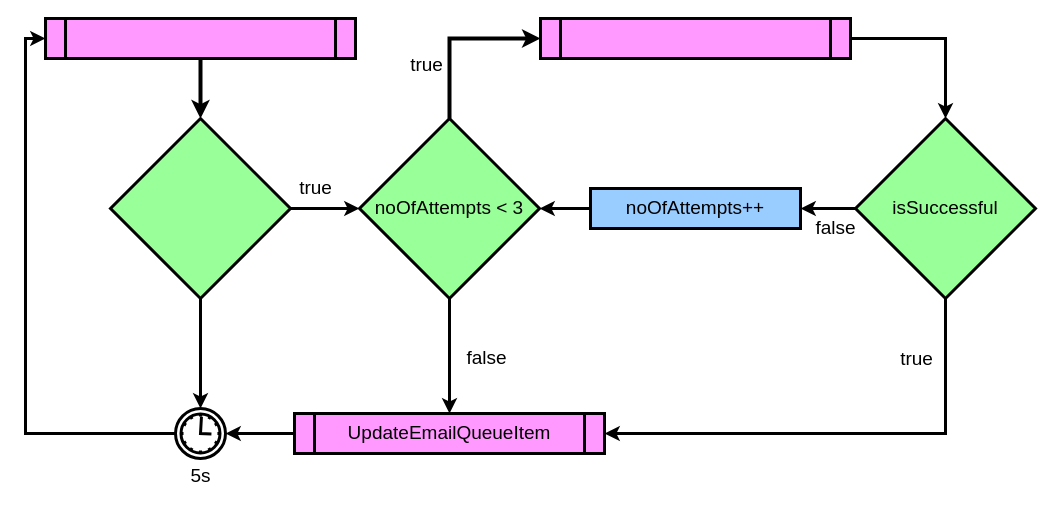
Image size: 1054x506. Some labels were removed from this diagram. Each missing label, with the box of its shape:
GetEmailQueueItemsAsync: (44, 16, 356, 60)
queueItems?: (108, 116, 292, 300)
SendEmailAsync: (538, 16, 852, 60)
